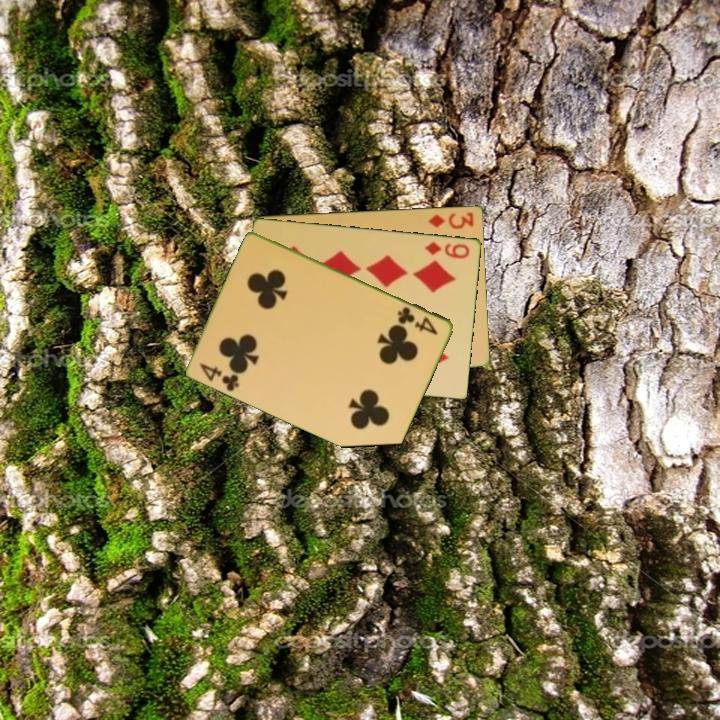3d: (425, 208, 477, 231)
4c: (394, 303, 441, 338), (197, 359, 243, 394)
9d: (422, 238, 473, 261)
